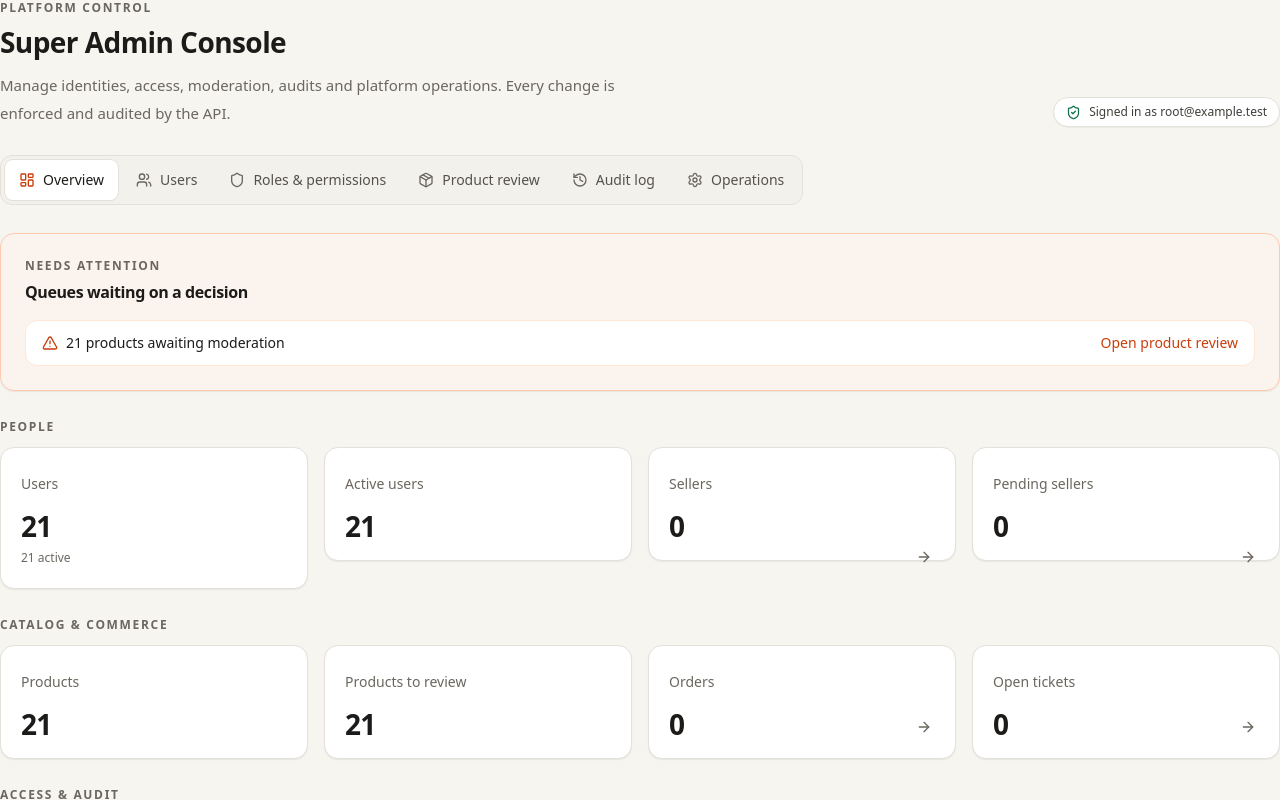
super-admin product collection › browses products beyond20 with metadata and resets the supported status filter to page1
Click the button "Product review" at coordinates (479, 180), box [404, 160, 554, 200]
(page scrolled)
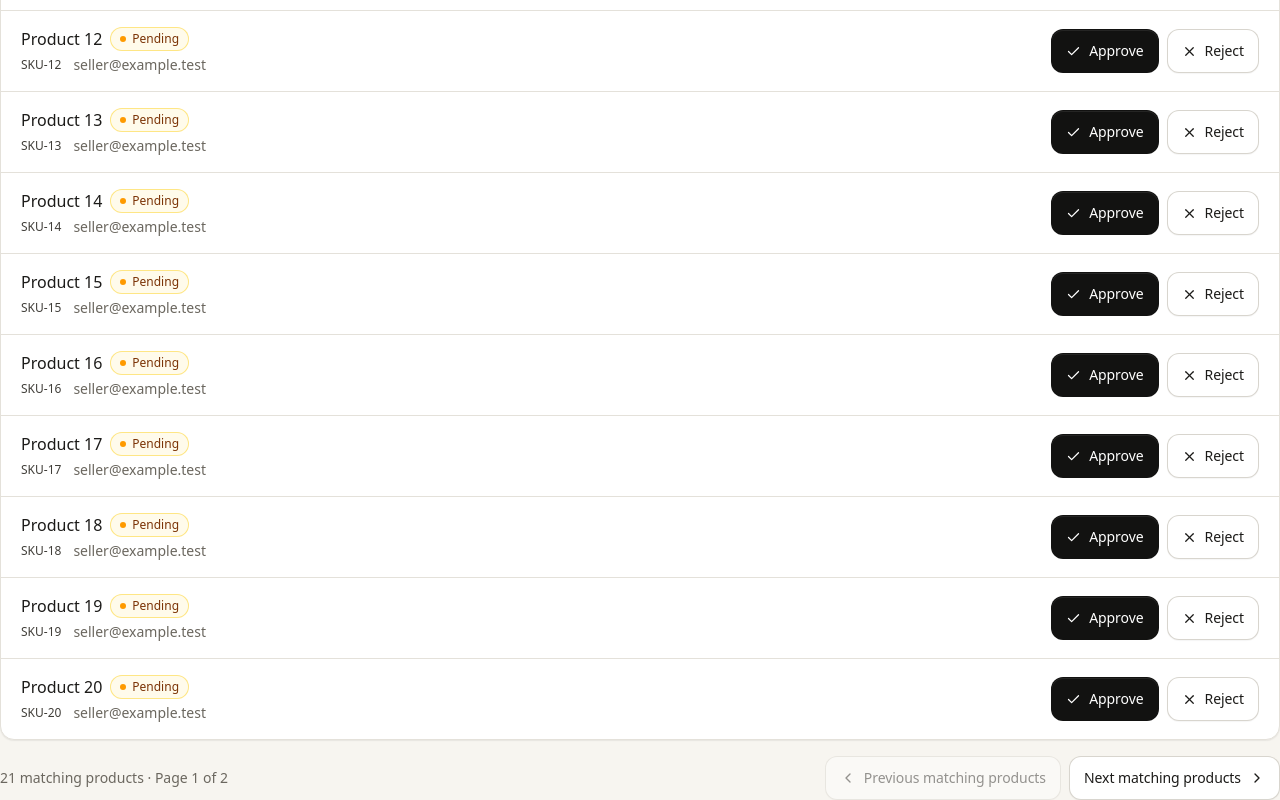
Check: the text "21 matching products · Page 1 of 2" is shown, box [0, 768, 228, 788]
Click the button "Next matching products" at coordinates (1174, 778), box [1069, 756, 1279, 799]
(page scrolled)
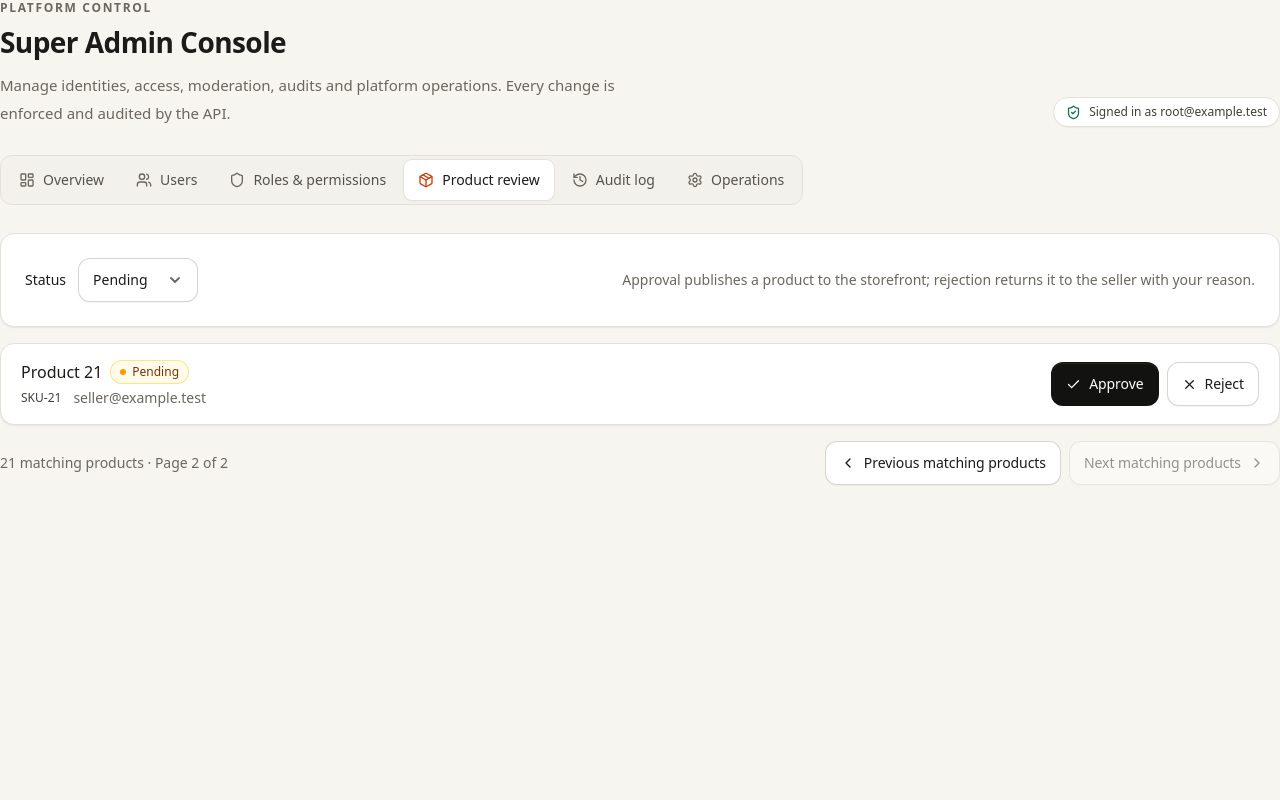
Check: the heading "Product 21" is shown, box [21, 360, 102, 384]
Select "Approved" in the dropdown labelled "Status" at coordinates (138, 280), box [78, 258, 198, 302]
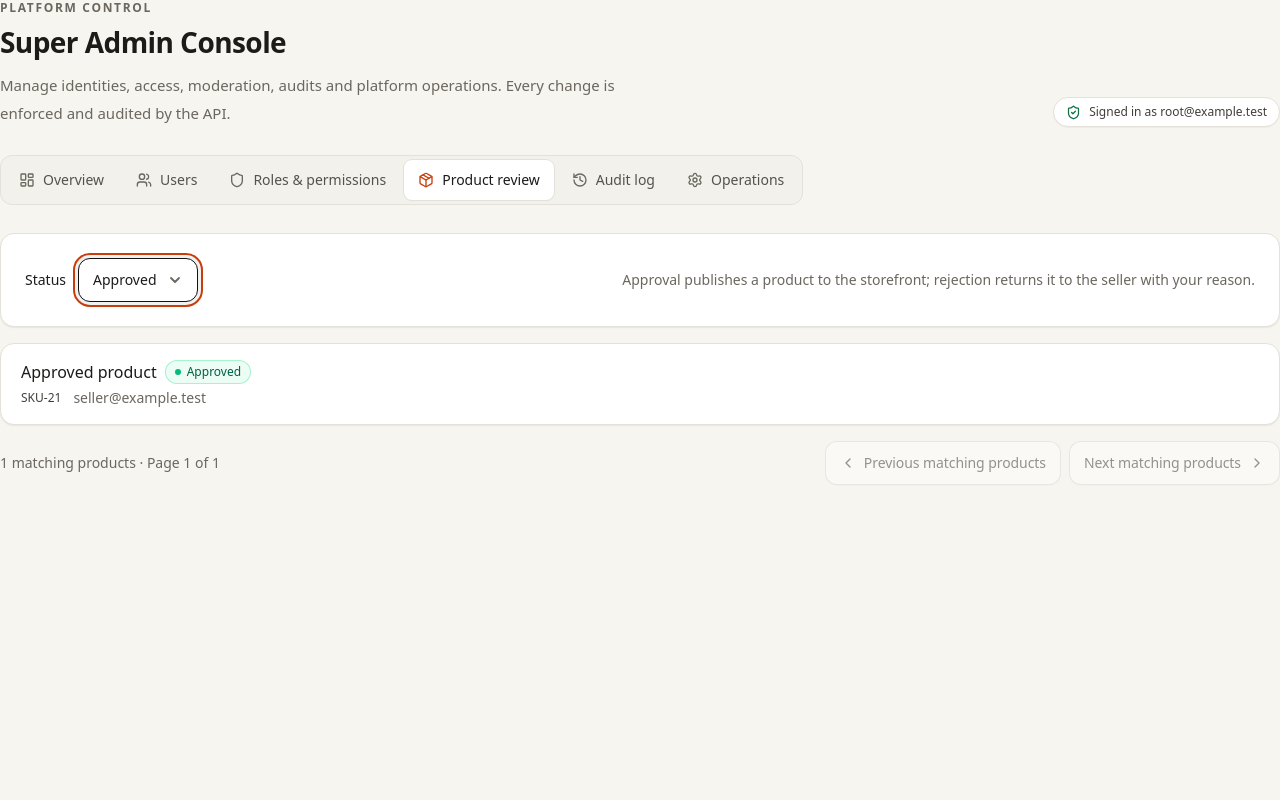
Check: the heading "Approved product" is shown, box [21, 360, 157, 384]
Check: the text "1 matching products · Page 1 of 1" is shown, box [0, 453, 220, 473]
